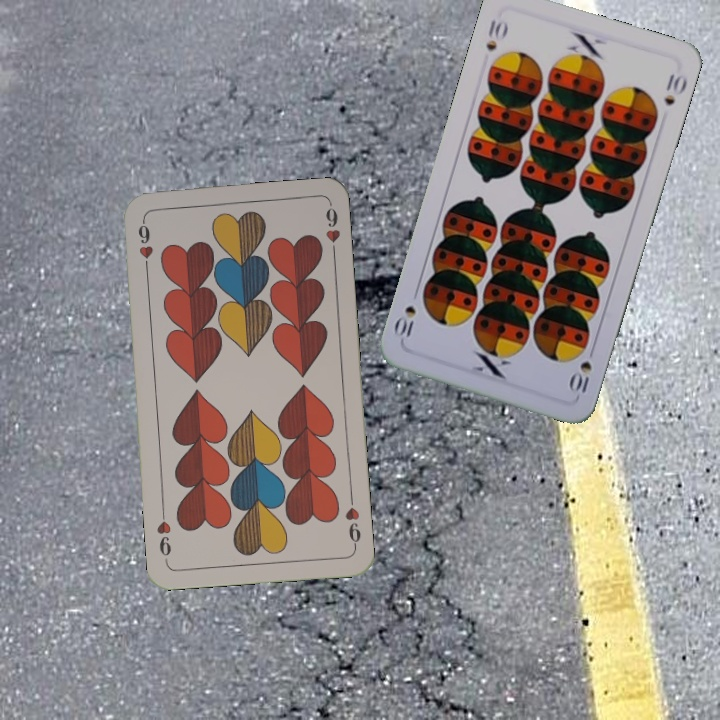H9: (341, 491, 364, 550), (134, 215, 156, 275)
S10: (566, 342, 598, 399), (482, 15, 511, 53)
